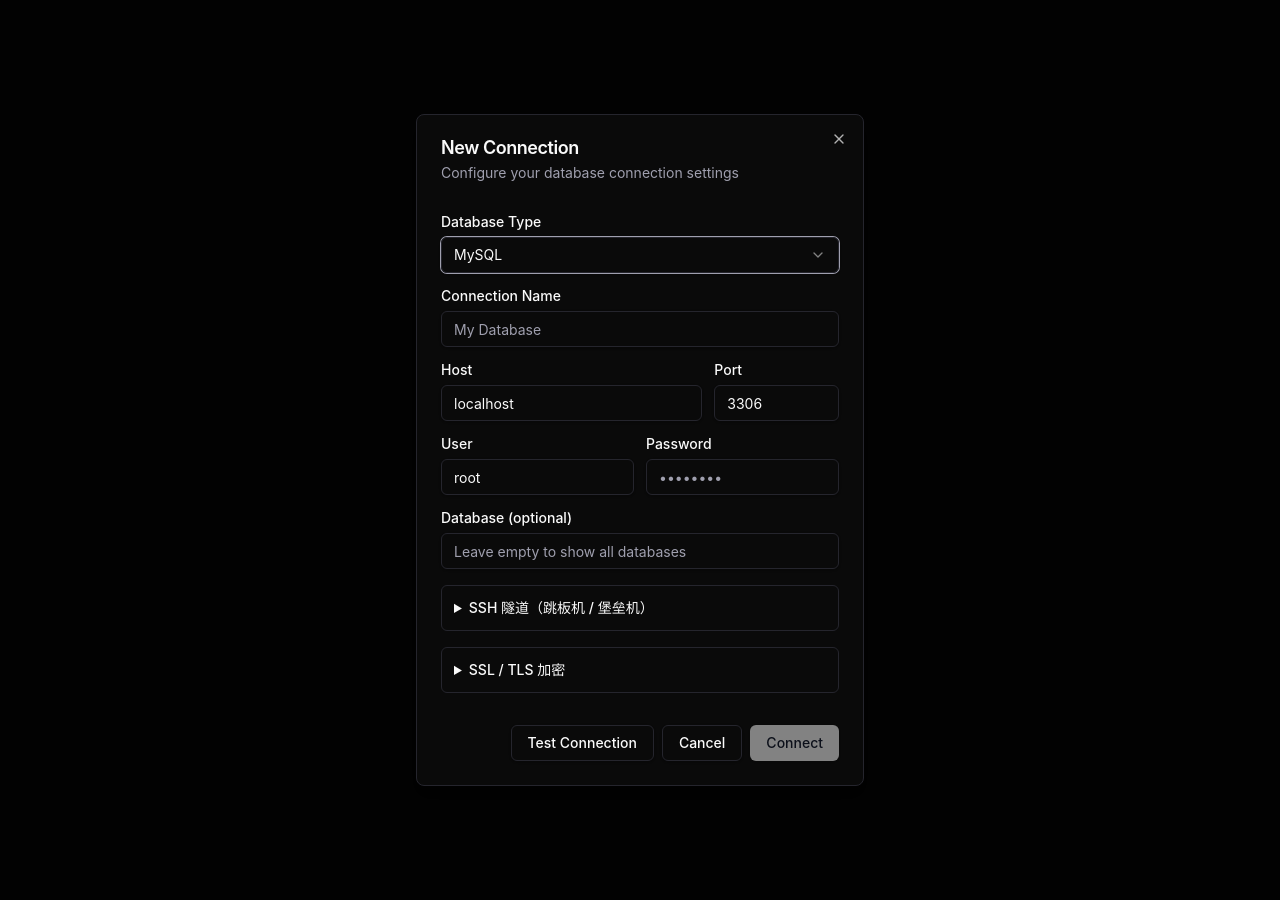
Scenario: enables save button when name and host are filled
The width and height of the screenshot is (1280, 900).
Type "myhost" into the field with placeholder "localhost" below "Host" at coordinates (572, 403), box [441, 385, 702, 421]
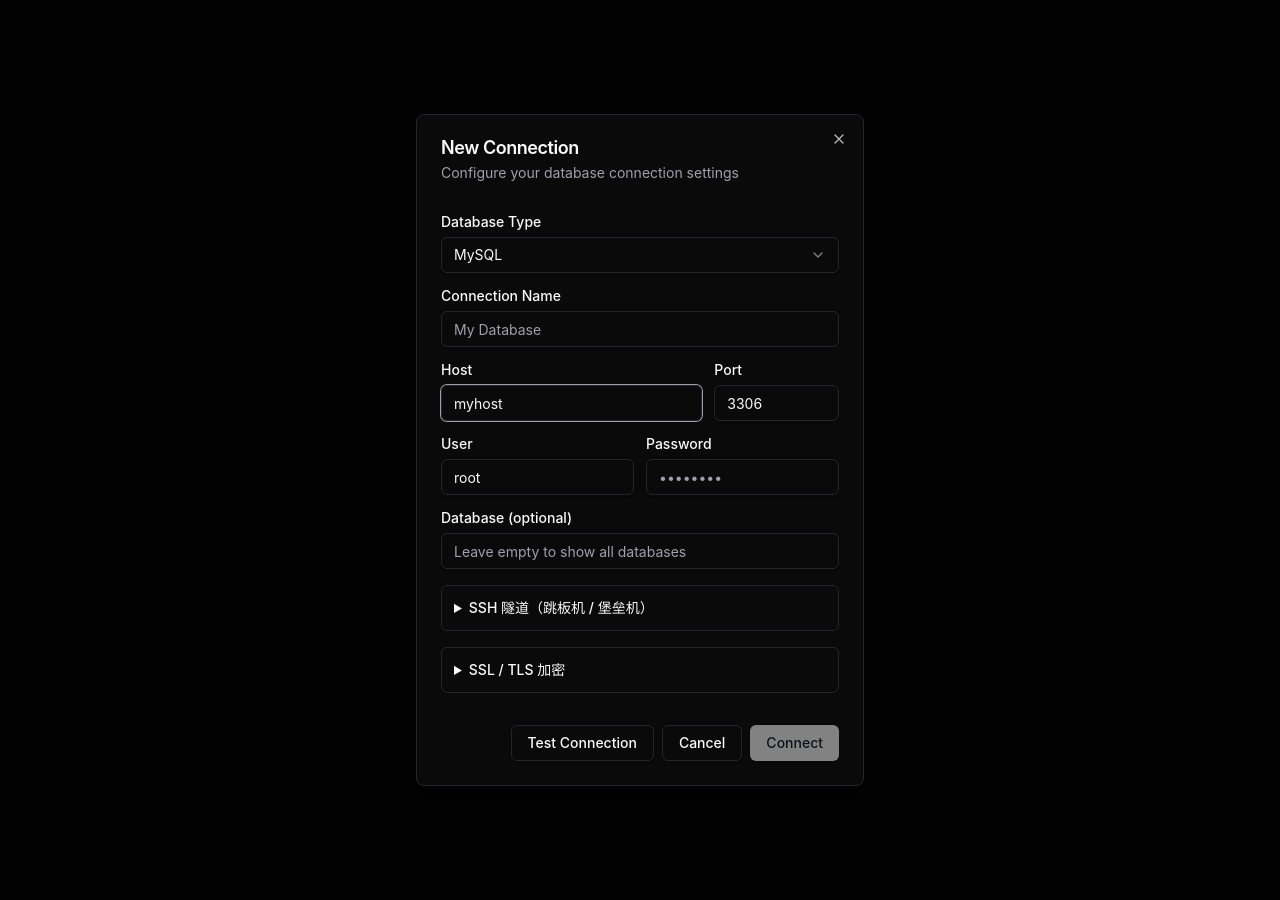
Type "test" into the field with placeholder "Leave empty to show all databases" at coordinates (640, 551), box [441, 533, 839, 569]
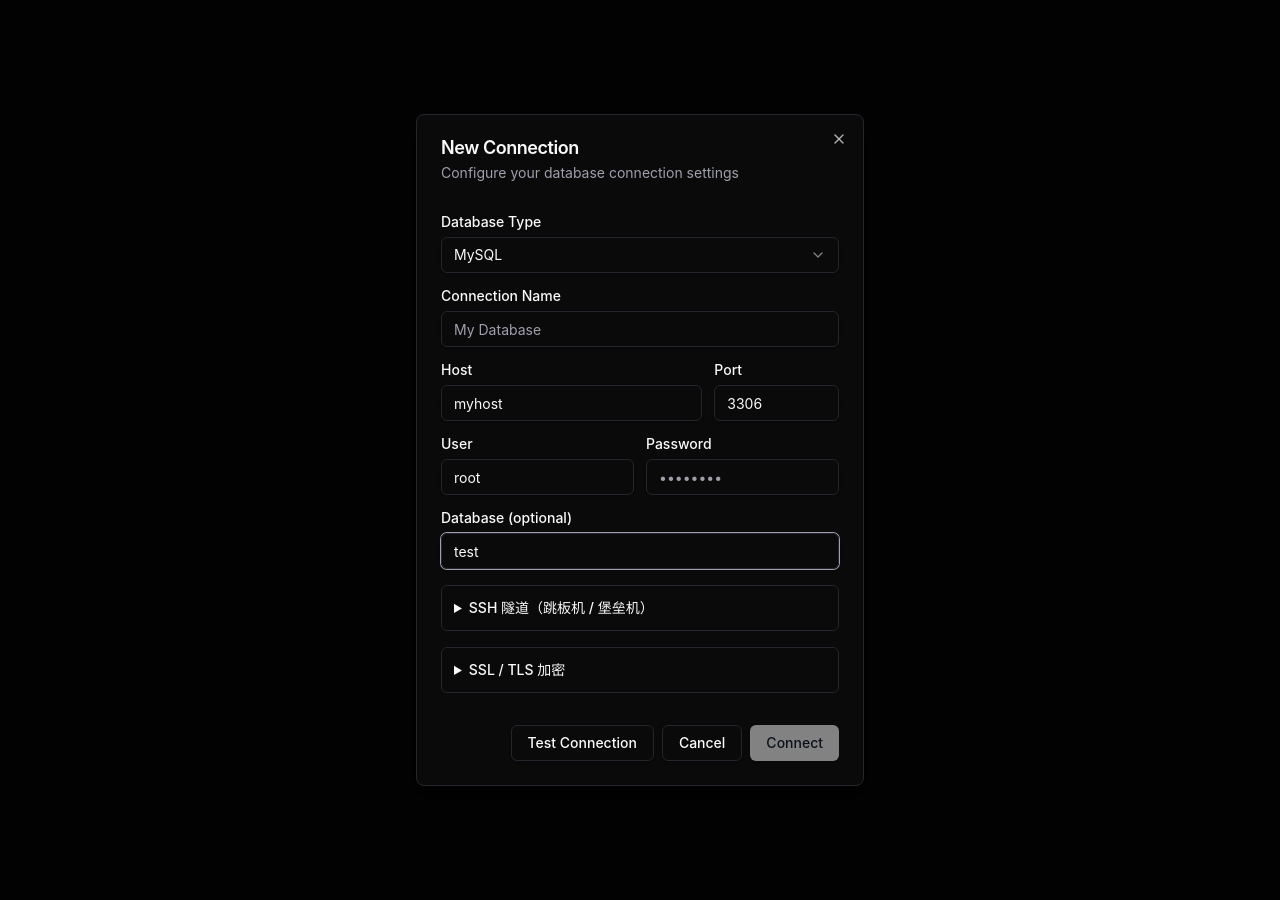
# Name is still empty — fill it
Type "My Conn" into the field with placeholder "My Database" at coordinates (640, 329), box [441, 311, 839, 347]
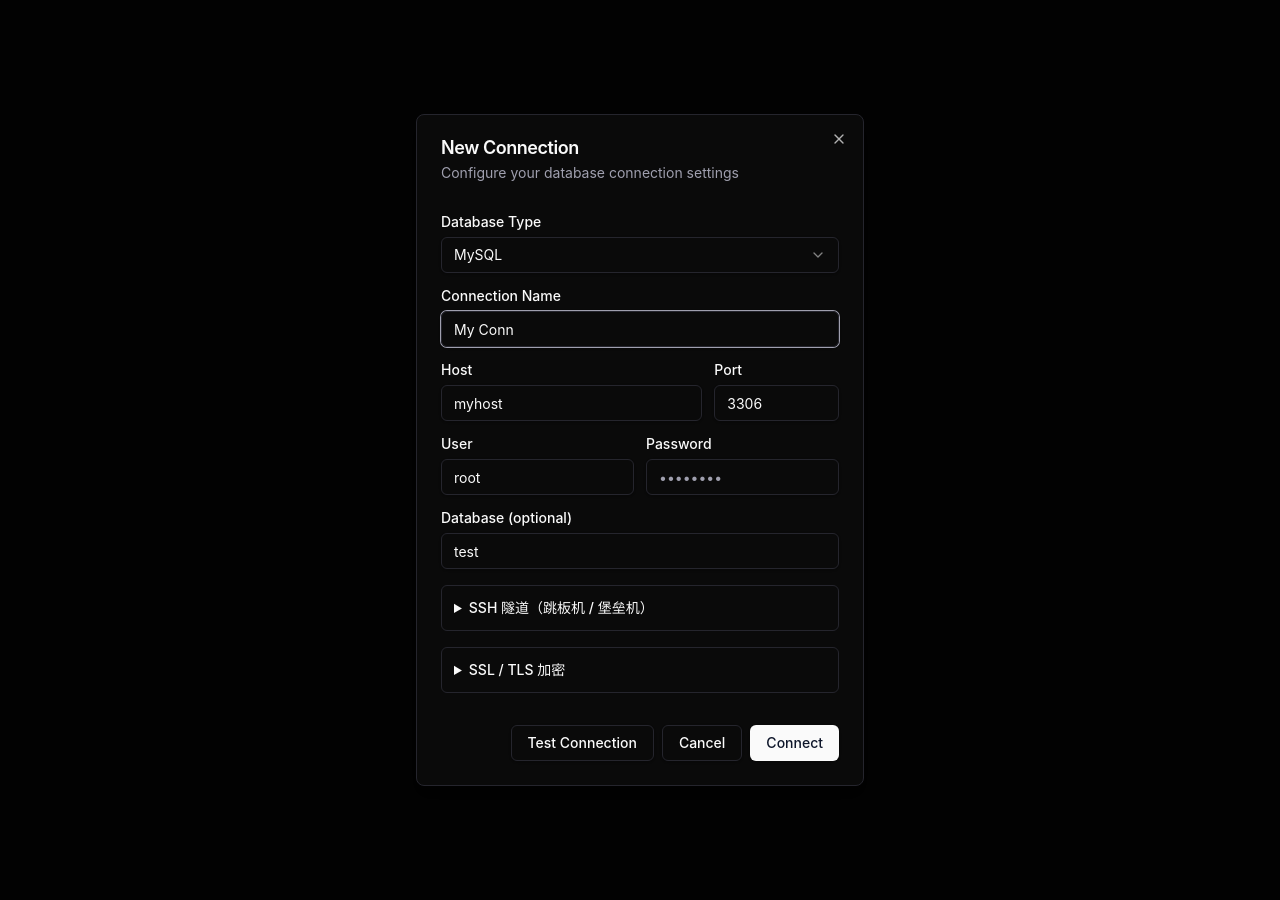
Check: the button "Connect" is enabled, box [750, 725, 839, 761]
